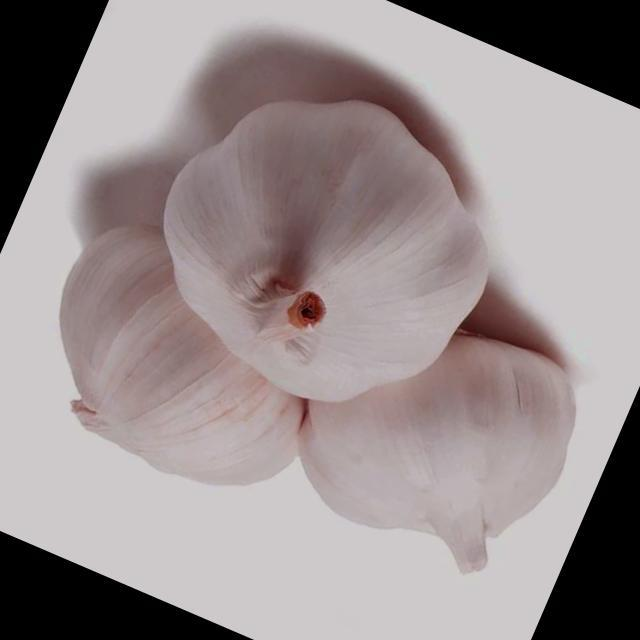garlic: (164, 101, 486, 402), (299, 335, 575, 572), (62, 225, 304, 484)
